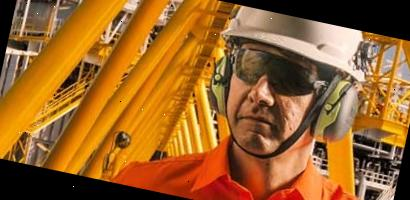helmet: (216, 2, 380, 86)
